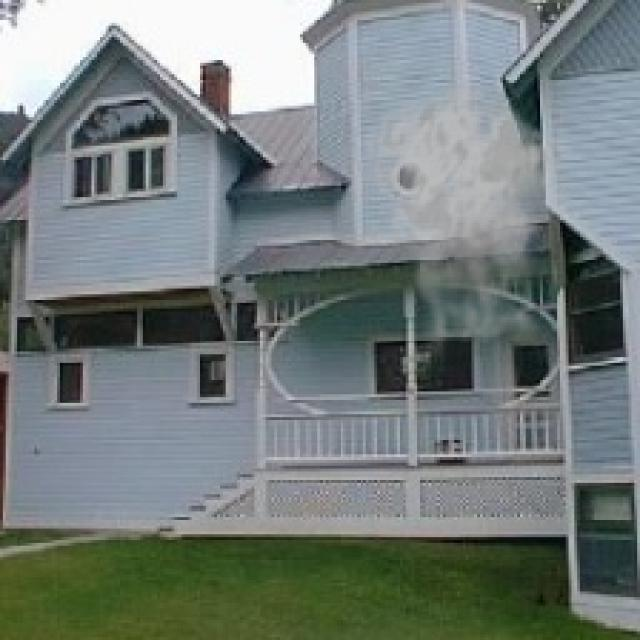smoke: (360, 80, 577, 363)
